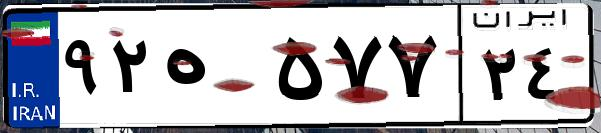2: (475, 38, 525, 113), (110, 28, 158, 98)
4: (525, 38, 570, 115)
5: (270, 28, 330, 110)
7: (385, 28, 445, 110), (330, 28, 385, 110)
9: (57, 26, 110, 100)
ه: (158, 20, 270, 120)
